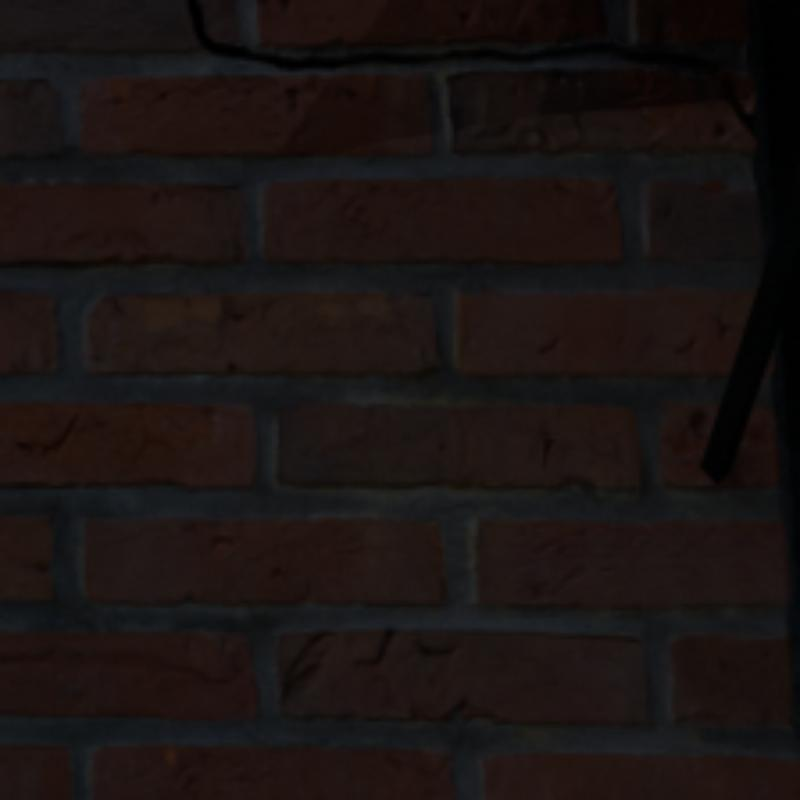pothole: (189, 0, 750, 125)
